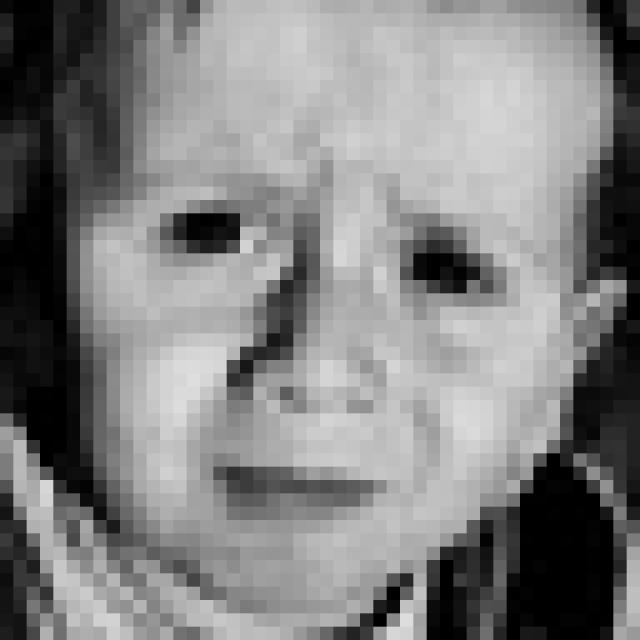sad: (113, 146, 556, 550)
